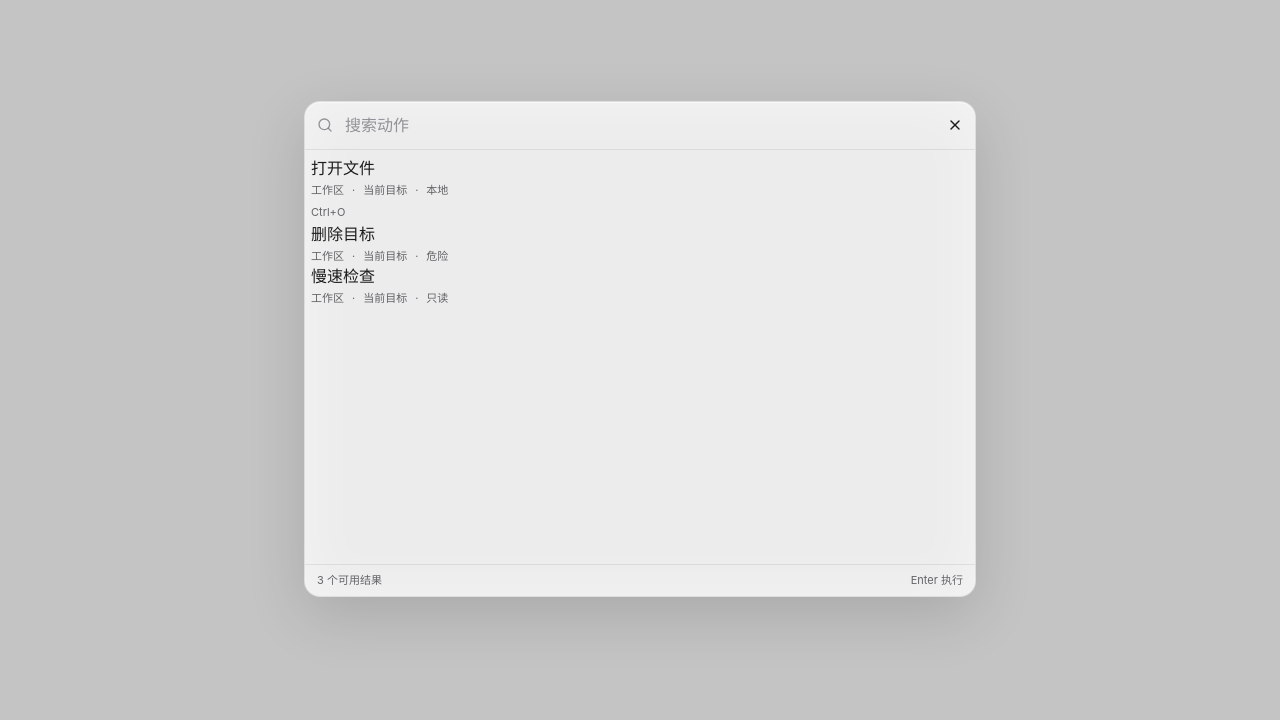
it: CommandPalette › lets a newer invocation own feedback and close behavior
Click the text "慢速检查" at (343,276), box [311,266,375,286]
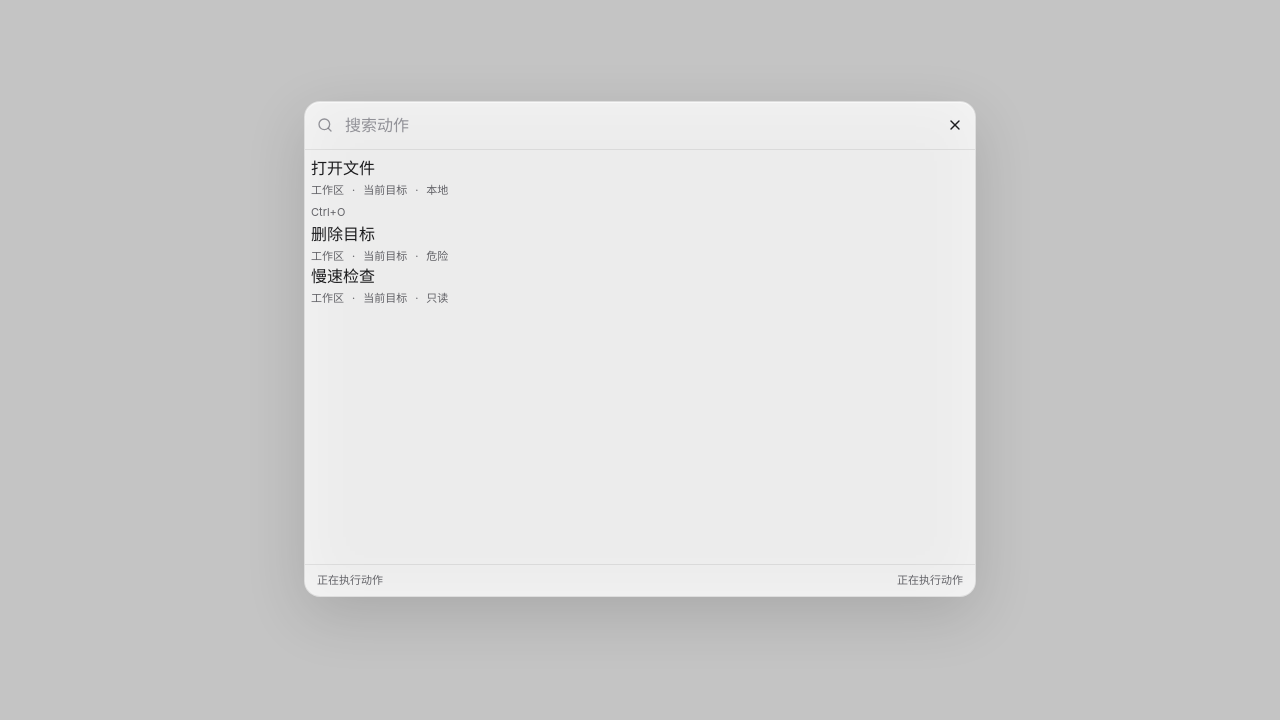
Click the text "打开文件" at (343,168), box [311,158,375,178]
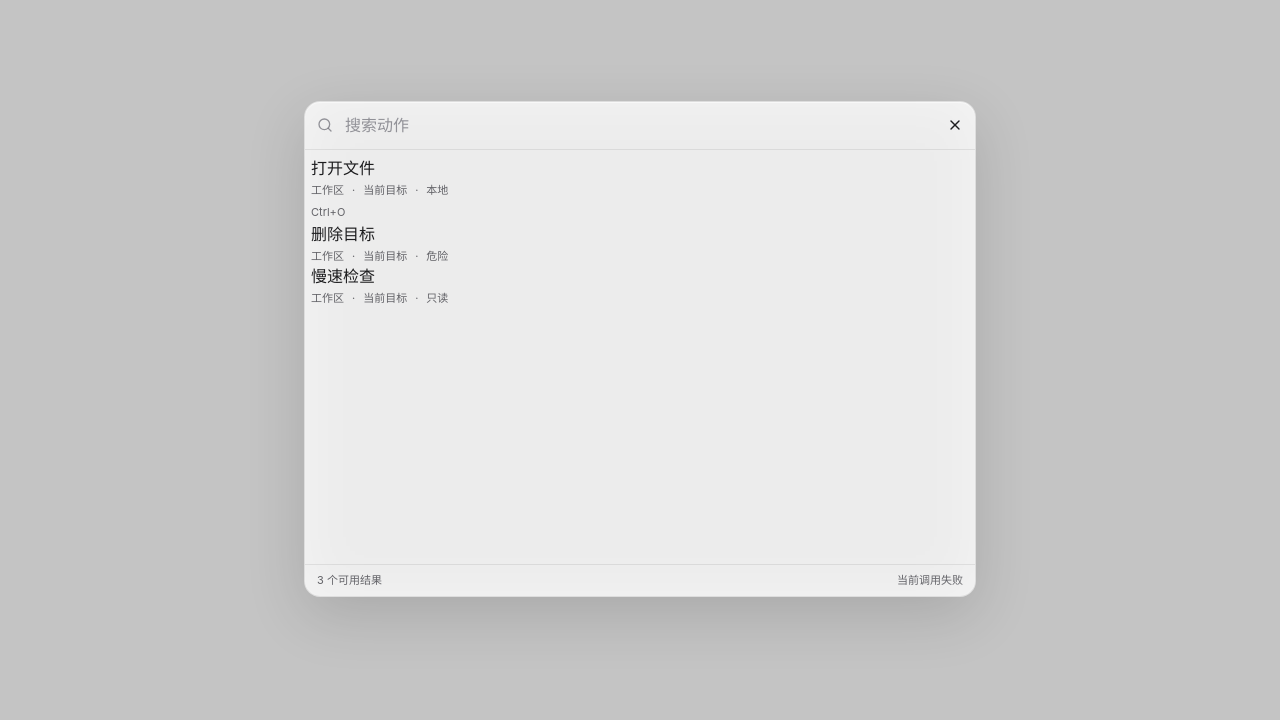
Expected: the message shows "当前调用失败", [897,573,963,587]
